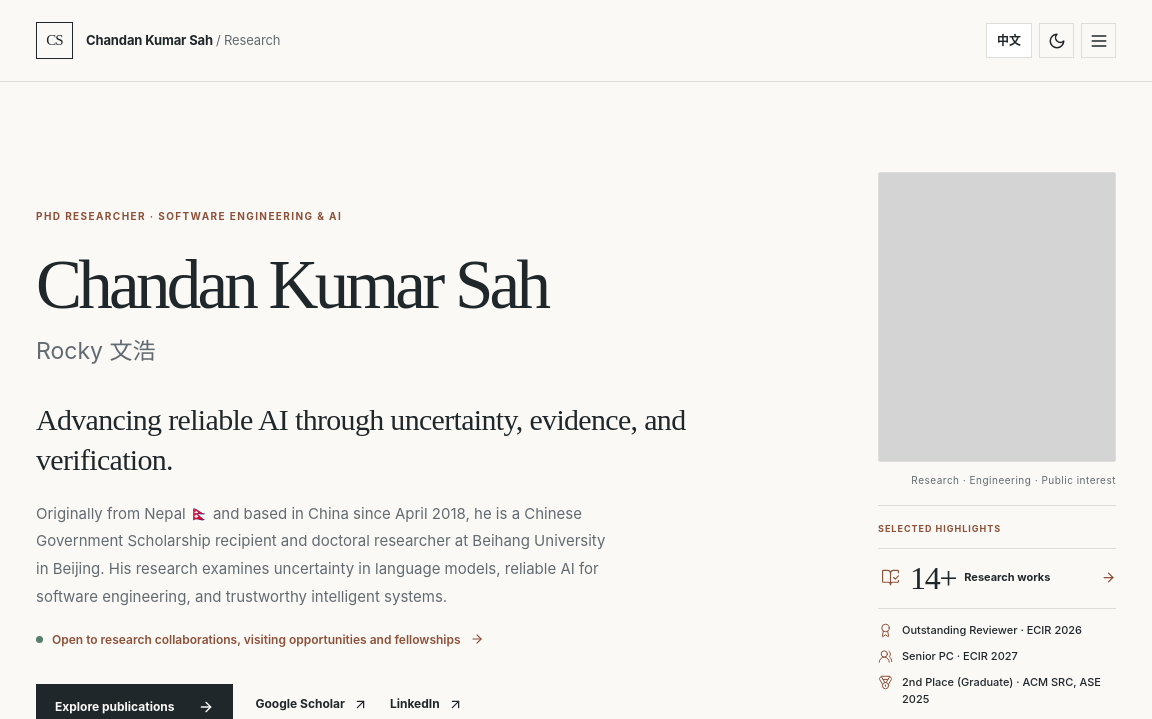
Test case: professional Simplified Chinese localization › uses the professors' actual Chinese names and official institute affiliation in Mandarin, reversible to English
The image size is (1152, 719).
Click the button with aria-label "Switch website to Simplified Chinese". click: (1009, 40)
box: [986, 23, 1032, 58]
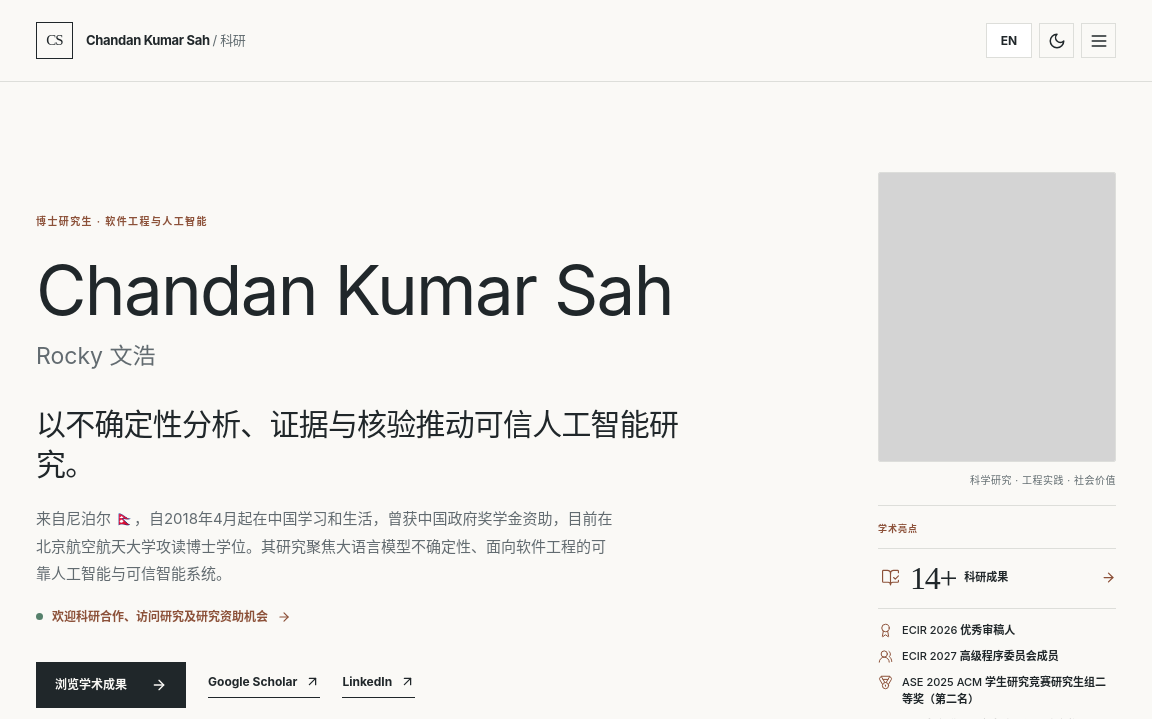
Click the button with aria-label "切换网站语言为英语". click: (1009, 40)
box: [986, 23, 1032, 58]
(page scrolled)
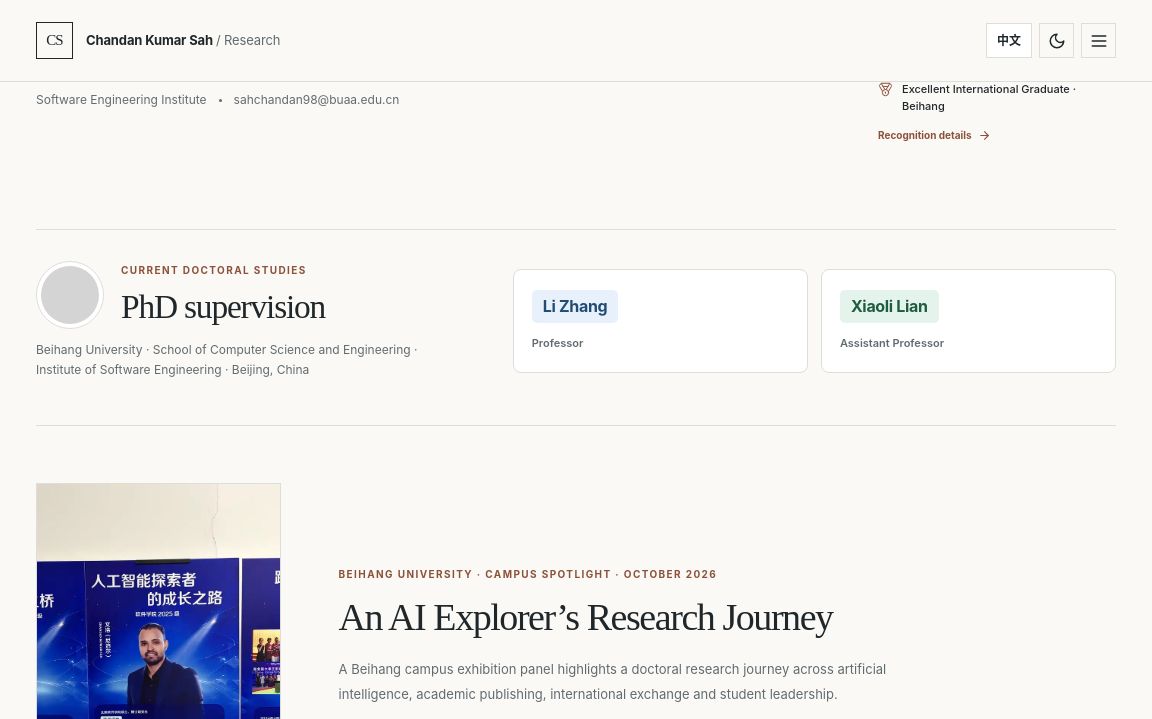
Check: the text "Li Zhang" is shown, box [532, 290, 618, 324]
Check: the text "Xiaoli Lian" is shown, box [840, 290, 939, 324]
Check: the text "Beihang University · School of Computer Science and Engineering · Institute of Software Engineering · Beijing, China" is shown, box [36, 342, 418, 377]
